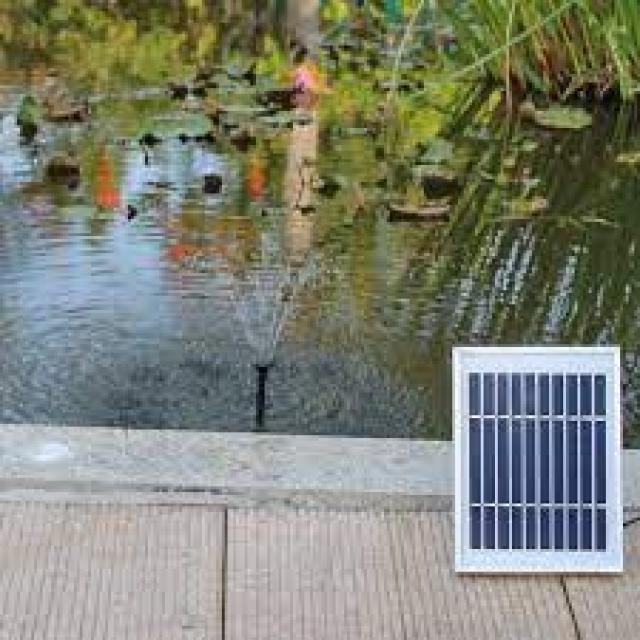no faulty: (457, 360, 627, 558)
